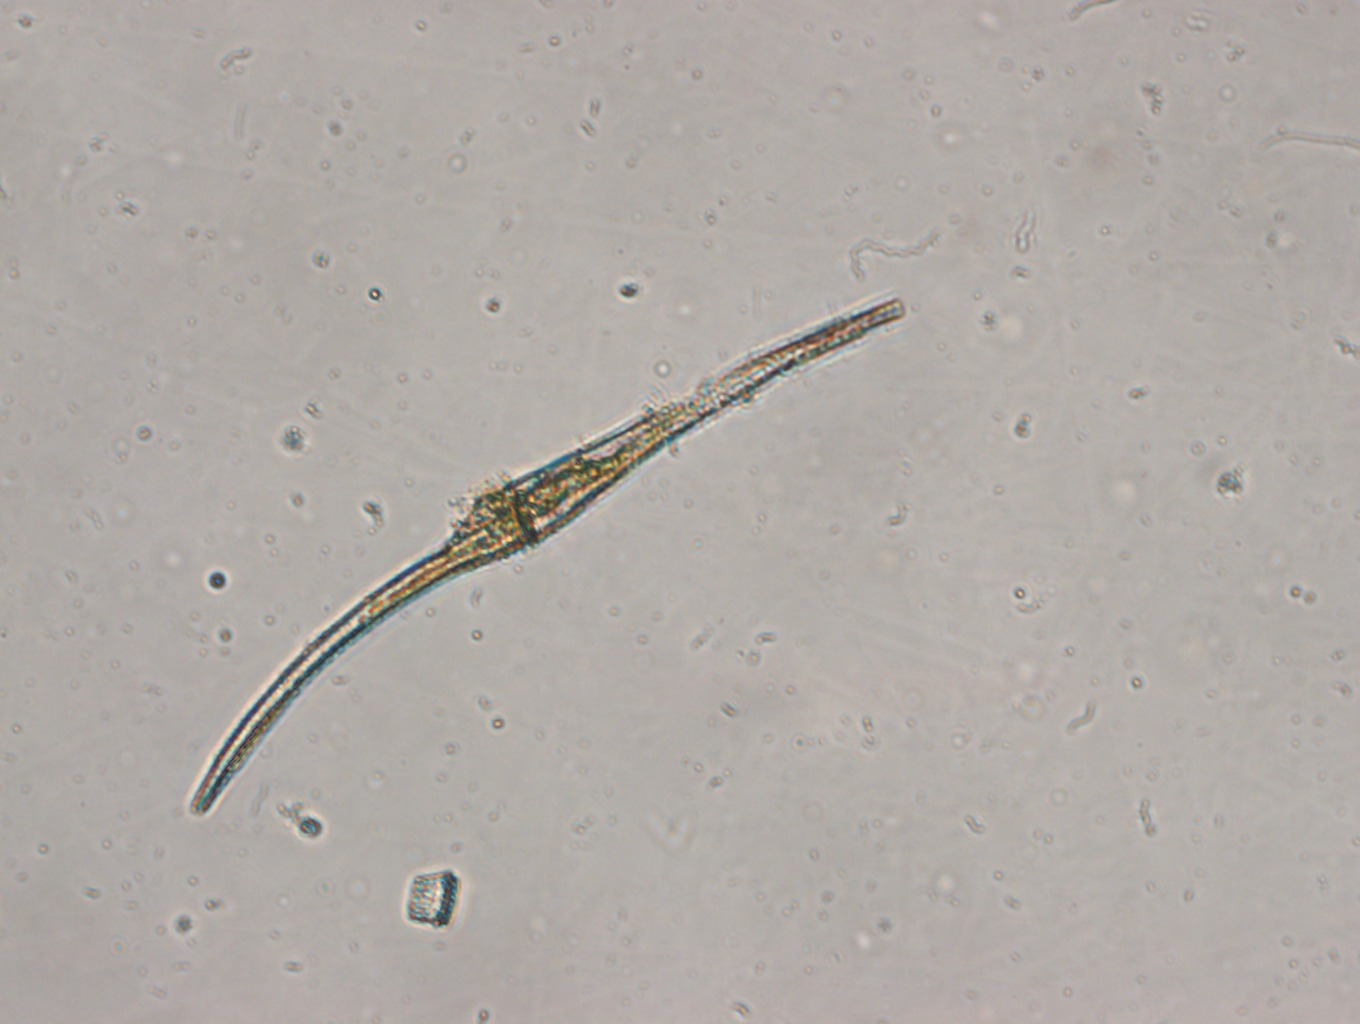ceratium fusus: (174, 287, 910, 820)
